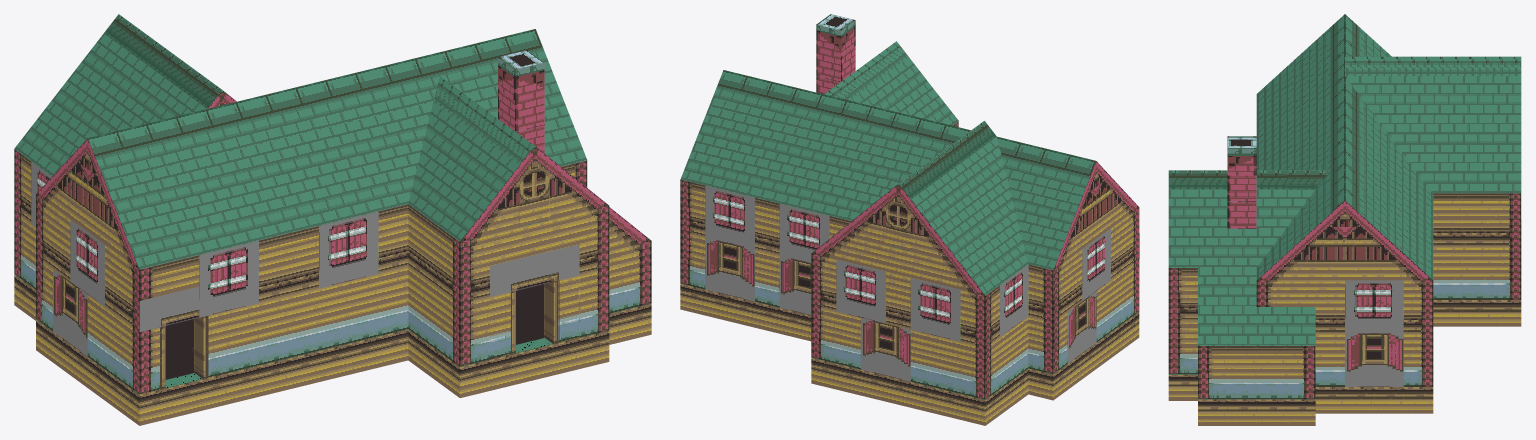
File: house3.glb
3 renders of one model, left to right at view 1: azimuth 30°, elevation 25°; view 2: azimuth 150°, elevation 25°; view 3: azimuth 270°, elevation 25°, orthographic. The views are drawn at different scales.
Visible parts, largest first — view 1: Scenario.002; view 2: Scenario.002; view 3: Scenario.002.
Part boxes in pixels (x1,y1,x2,y2): Scenario.002: (14, 14, 651, 425); Scenario.002: (680, 14, 1139, 425); Scenario.002: (1168, 14, 1521, 425).
Size of the model in its own units: 16.01 by 9 by 12.01.
Materials: 1 (1 with a texture image).
